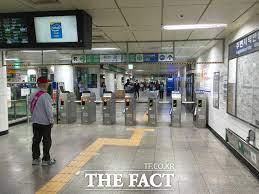guide_blocks: (32, 174, 71, 194), (67, 147, 100, 167), (95, 136, 130, 146), (129, 132, 143, 146), (127, 127, 155, 131)
